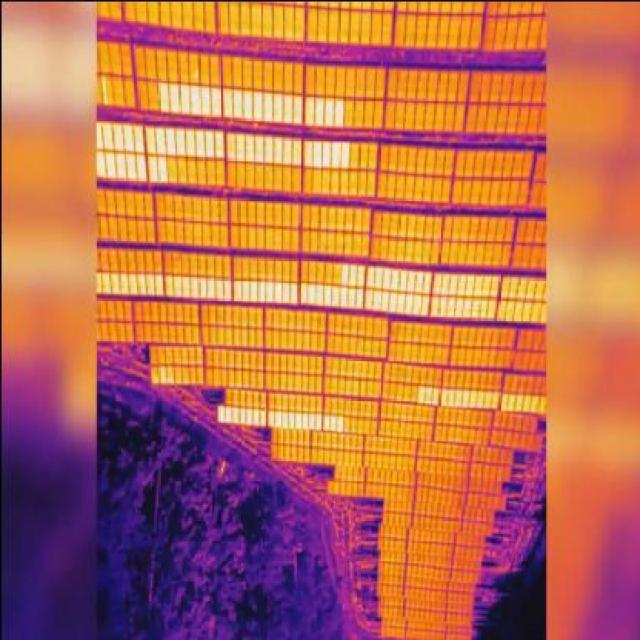diode: (105, 124, 121, 151), (158, 80, 171, 112), (254, 134, 266, 164), (125, 153, 138, 178), (306, 94, 316, 125), (236, 133, 247, 161), (114, 153, 126, 178), (148, 156, 160, 181), (294, 92, 303, 125), (98, 124, 110, 148), (316, 96, 326, 124), (252, 89, 262, 117), (202, 87, 212, 115), (243, 90, 254, 115), (326, 95, 336, 122), (207, 126, 216, 156), (334, 98, 344, 125), (274, 94, 284, 120), (192, 86, 202, 112), (157, 157, 168, 180), (264, 89, 273, 117), (234, 86, 243, 114), (177, 125, 186, 153), (223, 85, 232, 112), (180, 84, 189, 111), (136, 156, 147, 178), (246, 134, 254, 164), (341, 141, 350, 167), (314, 140, 323, 165), (270, 139, 279, 164), (503, 272, 512, 297), (262, 137, 270, 165), (157, 125, 165, 153), (147, 125, 155, 153), (258, 283, 268, 305), (522, 295, 532, 317), (384, 266, 394, 288), (528, 276, 538, 298), (286, 95, 294, 122), (324, 141, 333, 165), (120, 274, 129, 298), (424, 269, 433, 293), (483, 271, 492, 295), (521, 274, 530, 298), (454, 294, 464, 315), (434, 271, 444, 292), (290, 138, 298, 164), (104, 152, 113, 175), (497, 293, 506, 316), (198, 125, 205, 154), (100, 275, 109, 297), (267, 283, 276, 305), (467, 270, 476, 292), (487, 295, 496, 317), (172, 82, 179, 110), (169, 125, 176, 153), (333, 142, 341, 166), (305, 141, 313, 165), (280, 139, 288, 163), (292, 286, 302, 305), (189, 125, 196, 152), (350, 262, 359, 283), (452, 271, 461, 292), (122, 125, 130, 148), (101, 72, 107, 102), (137, 275, 145, 297), (512, 296, 520, 318), (376, 266, 384, 288), (306, 283, 314, 305), (180, 275, 189, 294), (293, 409, 302, 428), (111, 276, 120, 295), (421, 295, 430, 314), (412, 292, 421, 311), (367, 263, 376, 282), (459, 272, 468, 291), (491, 388, 500, 407), (212, 86, 218, 114), (95, 154, 102, 178), (218, 127, 224, 155), (442, 272, 450, 293), (228, 131, 234, 158), (132, 125, 138, 152), (349, 285, 358, 303), (373, 287, 382, 305), (464, 297, 473, 315), (138, 126, 144, 152), (199, 276, 206, 298), (335, 283, 342, 305), (439, 292, 446, 314), (504, 295, 511, 317), (277, 285, 285, 304), (473, 295, 481, 314), (298, 139, 304, 164), (538, 275, 544, 300), (246, 407, 254, 425), (287, 410, 295, 428), (207, 277, 215, 295), (250, 282, 258, 300), (358, 286, 367, 302), (429, 295, 437, 313), (417, 270, 425, 288), (526, 390, 534, 408), (512, 275, 520, 293), (494, 274, 501, 294), (131, 274, 137, 297), (432, 383, 440, 400), (222, 278, 229, 297), (392, 266, 399, 285), (474, 388, 481, 407), (164, 276, 170, 298), (286, 282, 292, 304), (382, 285, 388, 307), (391, 286, 397, 308), (540, 298, 546, 320), (302, 412, 310, 428), (94, 277, 100, 298), (146, 275, 152, 296), (154, 277, 161, 295), (189, 277, 196, 295), (241, 278, 247, 299), (359, 265, 366, 283), (477, 272, 483, 293), (341, 261, 347, 282), (172, 274, 178, 294), (416, 384, 424, 399), (512, 390, 519, 407), (316, 283, 322, 302), (342, 286, 348, 305), (532, 299, 538, 318), (401, 269, 407, 288), (408, 269, 414, 288), (324, 285, 330, 304), (94, 119, 98, 147), (239, 408, 247, 422), (331, 412, 338, 428), (464, 388, 471, 404), (482, 293, 487, 315), (254, 408, 260, 426), (261, 408, 267, 426), (328, 284, 334, 302), (232, 281, 238, 299), (407, 290, 413, 308), (448, 295, 454, 313), (426, 382, 432, 400), (483, 389, 489, 406), (504, 389, 510, 406), (162, 364, 168, 381), (310, 411, 316, 427), (400, 291, 406, 307), (451, 388, 457, 404), (522, 391, 528, 407), (280, 411, 286, 426), (444, 387, 450, 402), (220, 405, 226, 420), (370, 289, 375, 306), (226, 406, 232, 420), (458, 389, 464, 402), (232, 404, 236, 422), (323, 415, 329, 427), (215, 280, 219, 298), (168, 364, 172, 382), (537, 390, 541, 407), (317, 413, 321, 429), (275, 410, 279, 425), (268, 409, 272, 423), (338, 412, 342, 426), (542, 393, 544, 407)
hotspot: (157, 373, 161, 382)
